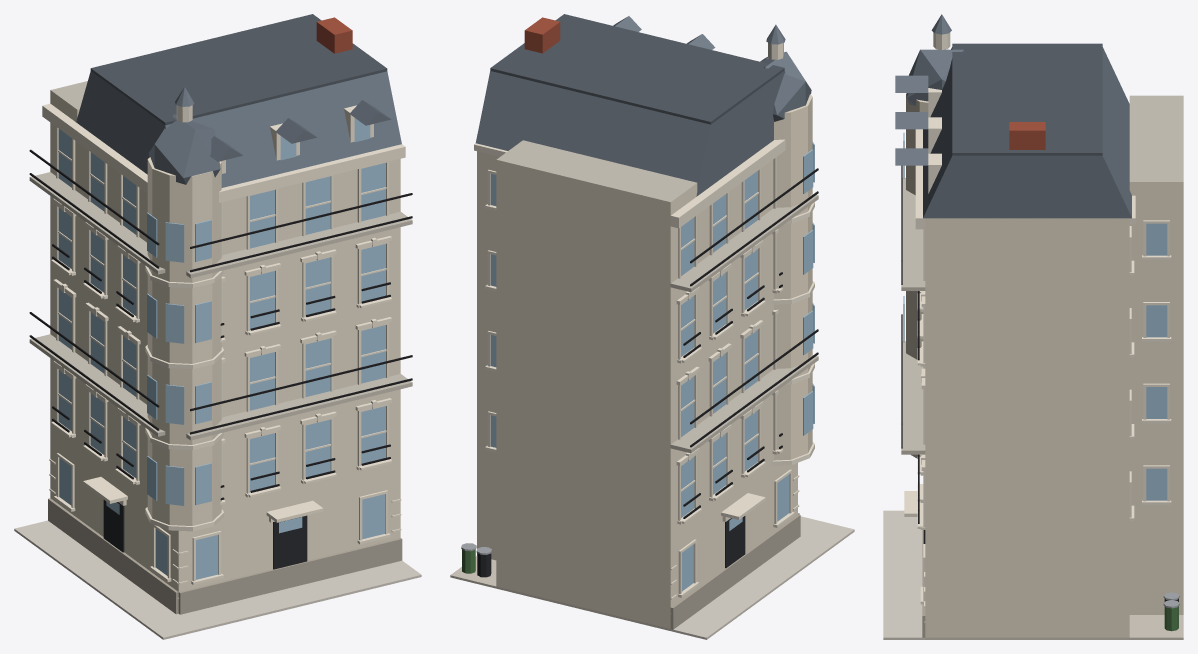
The model's file is Blok_kose_5k_1_Hafif.fbx.
3 views of the same model, side by side, from view 1: azimuth 30°, elevation 25°; view 2: azimuth 150°, elevation 25°; view 3: azimuth 270°, elevation 25° (orthographic).
Visible parts, largest first — view 1: Blok_kose_5k_1_Hafif; view 2: Blok_kose_5k_1_Hafif; view 3: Blok_kose_5k_1_Hafif.
Boxes of the visible parts, x1=… form: Blok_kose_5k_1_Hafif: x1=14, y1=14, x2=421, y2=639; Blok_kose_5k_1_Hafif: x1=450, y1=14, x2=854, y2=639; Blok_kose_5k_1_Hafif: x1=883, y1=14, x2=1183, y2=639.
Bounding box in the file's own units: 10 × 19.23 × 10.
